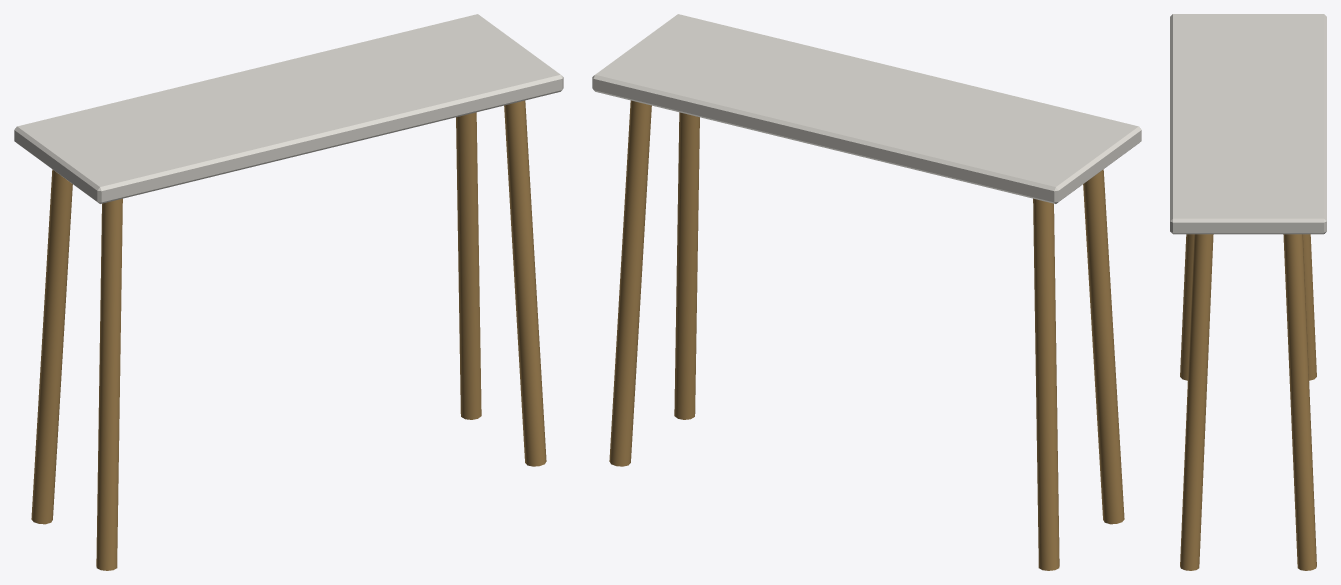
The model's file is i_table_18.glb.
The picture shows the model from 3 angles, left to right: view 1: azimuth 30°, elevation 25°; view 2: azimuth 150°, elevation 25°; view 3: azimuth 270°, elevation 25°; orthographic projection. The views are drawn at different scales.
Parts seen in each view (by area): view 1: o, o.003, o.001, o.002, o.004; view 2: o, o.004, o.002, o.001, o.003; view 3: o, o.003, o.004, o.001, o.002.
Part boxes in pixels (box(x1,y1,x2,y2)): o: box(14, 14, 563, 203); o.003: box(504, 100, 546, 466); o.001: box(96, 198, 122, 570); o.002: box(31, 169, 72, 524); o.004: box(456, 112, 481, 419); o: box(592, 14, 1141, 203); o.004: box(609, 100, 651, 466); o.002: box(1033, 198, 1059, 570); o.001: box(1083, 169, 1124, 524); o.003: box(674, 112, 699, 419); o: box(1170, 14, 1326, 234); o.003: box(1180, 234, 1213, 570); o.004: box(1283, 234, 1316, 570); o.001: box(1180, 234, 1193, 380); o.002: box(1303, 234, 1316, 380).
Bounding box in the file's own units: 1 × 0.8011 × 0.32.
